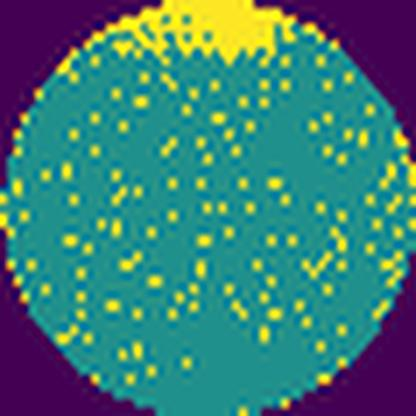Edge-Loc: (114, 0, 302, 67)
